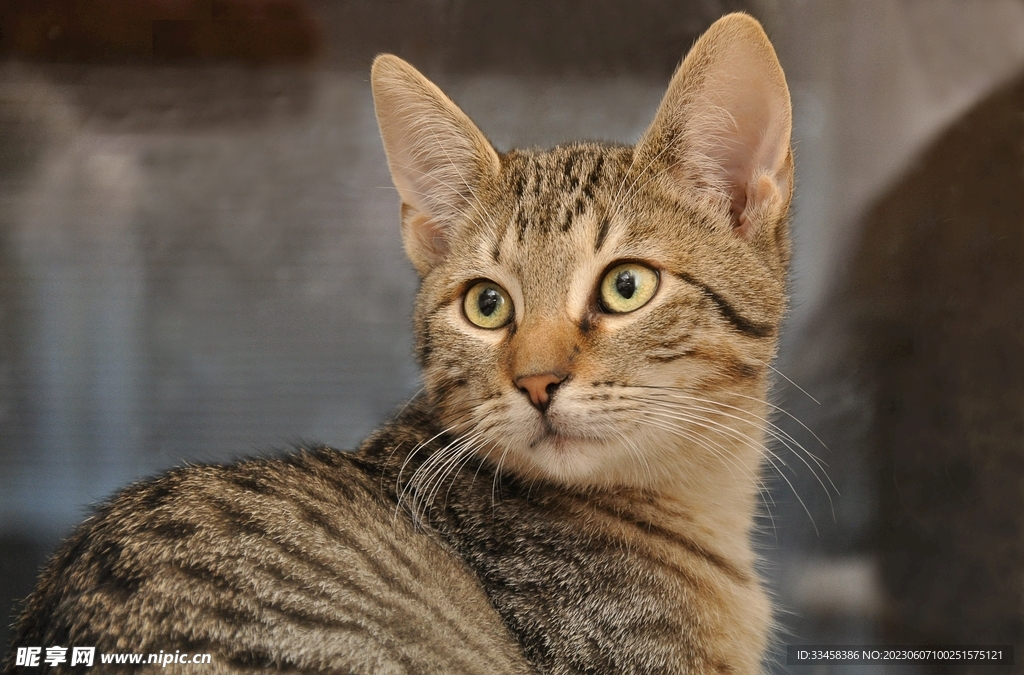cat: (375, 9, 792, 472)
